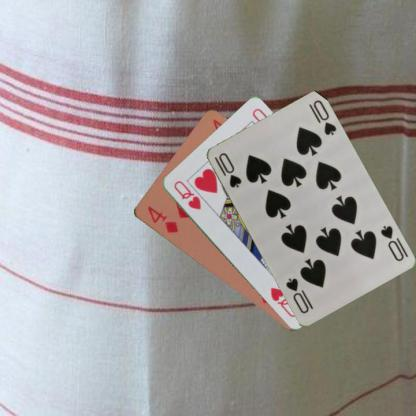10s: (211, 150, 242, 190), (377, 222, 405, 262)
4d: (145, 202, 179, 234)
Qh: (171, 178, 202, 211)
